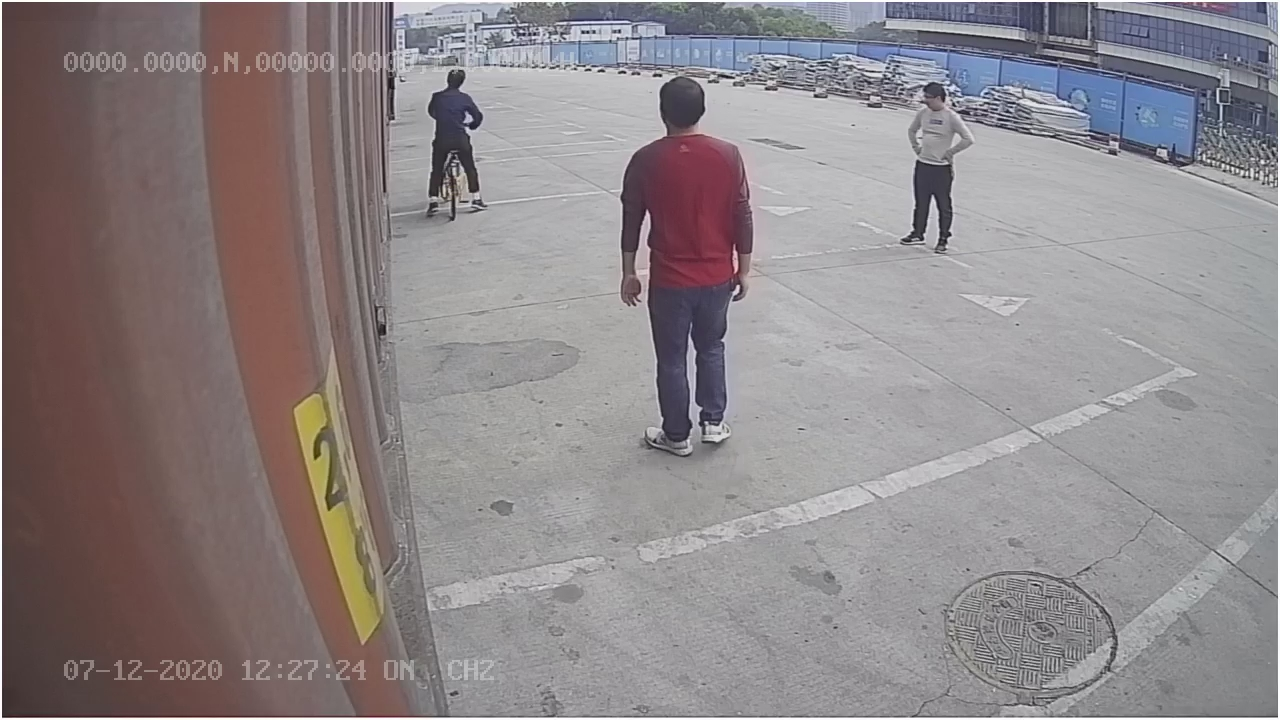person: (612, 71, 761, 460)
